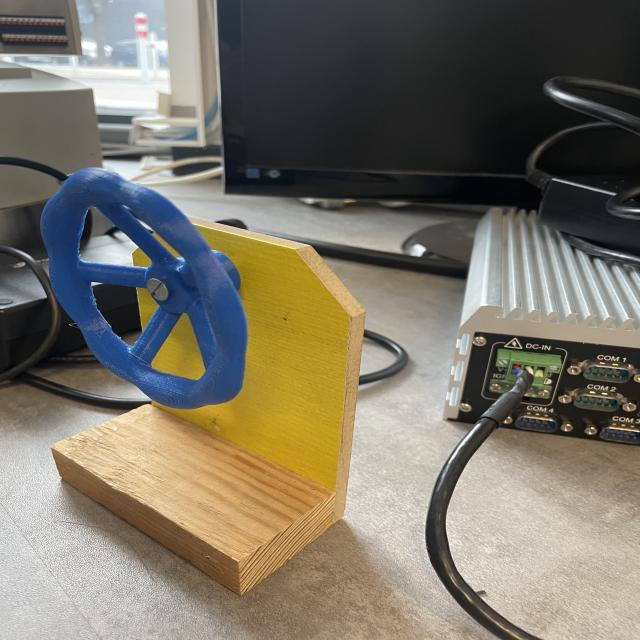Wheel Handle Valve Threaded: (36, 164, 250, 410)
